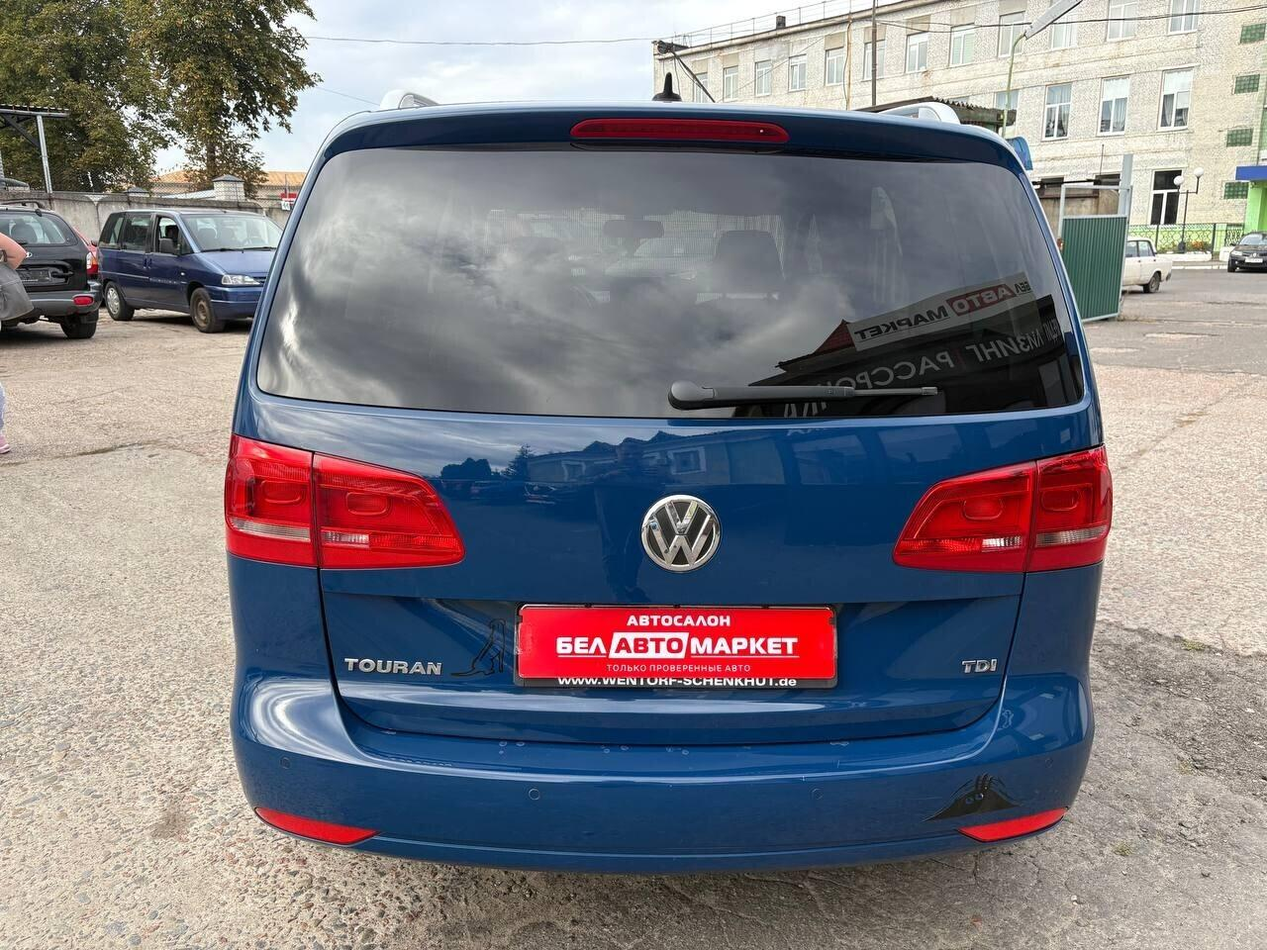Touran_2010-2015: (217, 92, 1111, 877)
